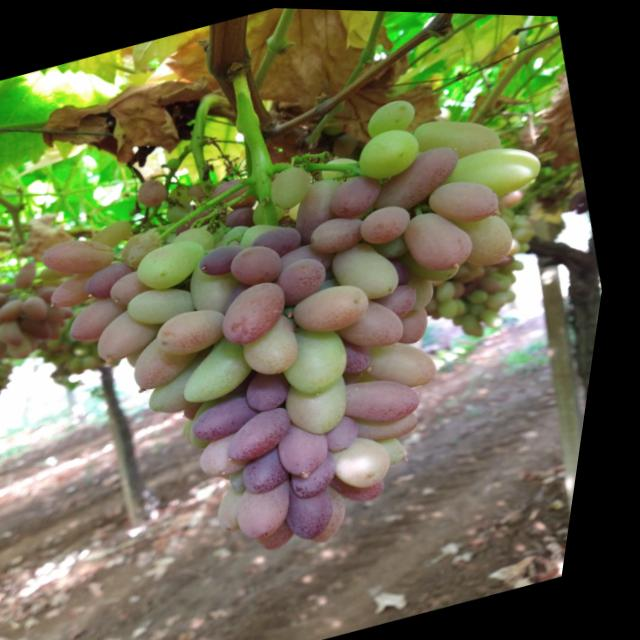grapes: (363, 136, 478, 219), (438, 131, 553, 208), (353, 321, 456, 402), (179, 328, 276, 407), (398, 196, 490, 278), (279, 319, 369, 402), (147, 343, 244, 418), (132, 318, 228, 393), (344, 360, 439, 433), (410, 99, 509, 168), (328, 231, 415, 307), (219, 274, 307, 349), (295, 272, 386, 341), (238, 465, 318, 543), (334, 287, 419, 356), (288, 369, 368, 442), (423, 165, 511, 230), (95, 299, 180, 366), (228, 398, 314, 464), (285, 172, 359, 248), (187, 251, 264, 324), (134, 232, 221, 296), (157, 299, 245, 362), (240, 309, 317, 381), (286, 468, 358, 545), (451, 203, 527, 272), (279, 409, 352, 480), (42, 227, 128, 286), (351, 120, 430, 183), (67, 287, 149, 347), (337, 427, 411, 493), (195, 388, 279, 446), (129, 276, 210, 333), (245, 437, 314, 496), (201, 424, 271, 481), (275, 249, 341, 309), (359, 393, 435, 445), (308, 207, 380, 259), (326, 168, 395, 222), (337, 456, 406, 509), (406, 235, 473, 289), (230, 237, 297, 291), (315, 481, 371, 543), (86, 253, 151, 304), (51, 262, 117, 311), (297, 447, 358, 500), (248, 363, 310, 415), (220, 478, 274, 535), (360, 197, 422, 246), (267, 160, 323, 212), (252, 219, 314, 264), (364, 92, 423, 138), (275, 238, 336, 282), (377, 273, 431, 322), (111, 264, 170, 308), (170, 221, 225, 267), (339, 327, 389, 376), (201, 237, 257, 279), (122, 227, 173, 271), (211, 172, 263, 212), (265, 510, 313, 552), (320, 149, 371, 188), (398, 300, 443, 344), (331, 410, 376, 453), (93, 215, 143, 253), (379, 426, 424, 467), (408, 270, 447, 310), (374, 228, 420, 261), (24, 311, 65, 346), (138, 174, 176, 211), (224, 202, 264, 233), (27, 292, 61, 325), (3, 317, 37, 350), (1, 296, 38, 325), (238, 464, 272, 494), (17, 260, 49, 291), (12, 334, 45, 362), (495, 184, 532, 208), (467, 307, 496, 337), (439, 274, 468, 304), (189, 396, 221, 422), (486, 302, 516, 328), (0, 332, 23, 365), (481, 269, 511, 294), (45, 281, 76, 305), (496, 265, 522, 291), (443, 295, 470, 318), (0, 288, 20, 318), (52, 316, 74, 341), (490, 286, 514, 308), (471, 283, 497, 303), (0, 279, 26, 297), (495, 250, 523, 266), (456, 276, 475, 296), (0, 317, 14, 344), (506, 283, 526, 301), (511, 254, 532, 269), (509, 264, 526, 281)
